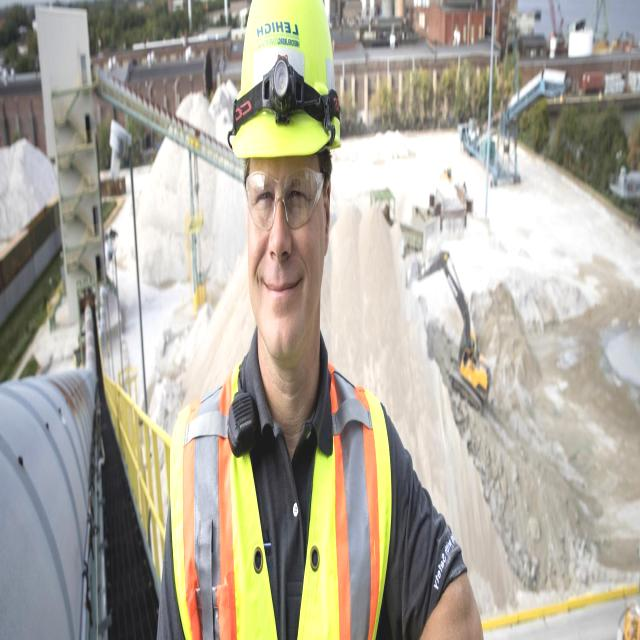face_nomask: (234, 152, 330, 351)
glasses: (241, 157, 328, 234)
head_helmet: (217, 2, 341, 180)
person: (143, 5, 495, 632)
vest: (174, 354, 391, 639)
